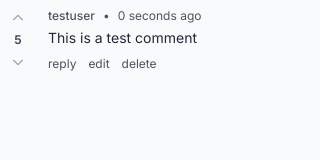
Scenario: CommentItem › Voting › should update points optimistically when voting
Click the button named "Upvote" at (18, 18), box [8, 8, 28, 28]
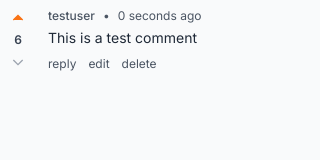
Expected: the text "6" is shown, [14, 32, 22, 48]
